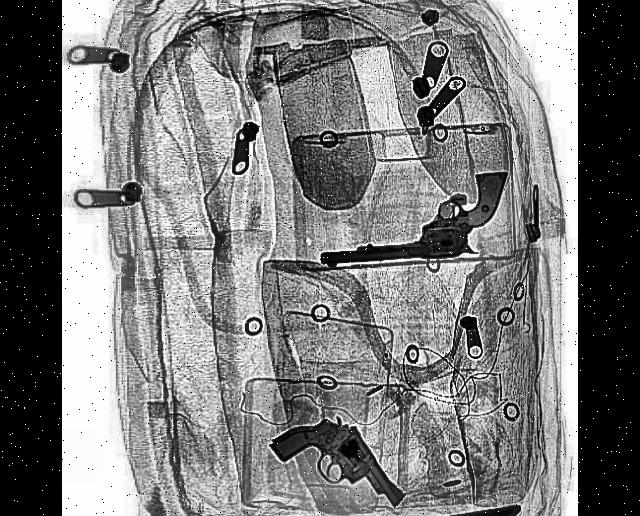Gun: (268, 373, 403, 516), (318, 169, 507, 263)
Knife: (222, 498, 519, 516)
